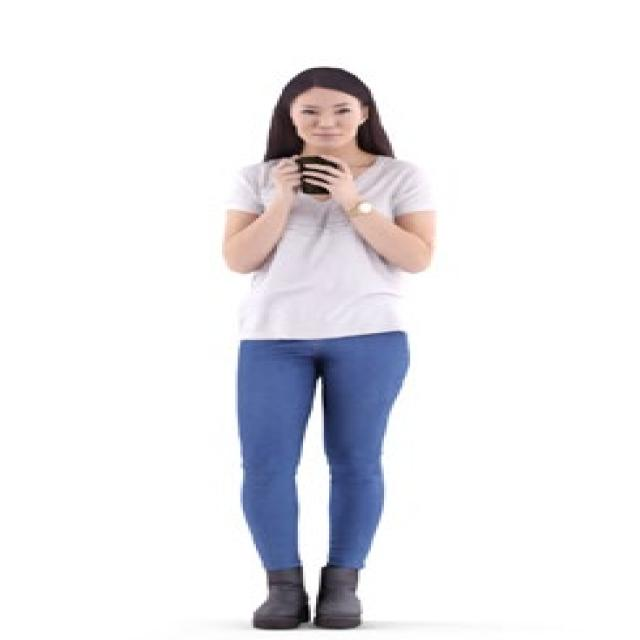standing: (215, 65, 439, 633)
